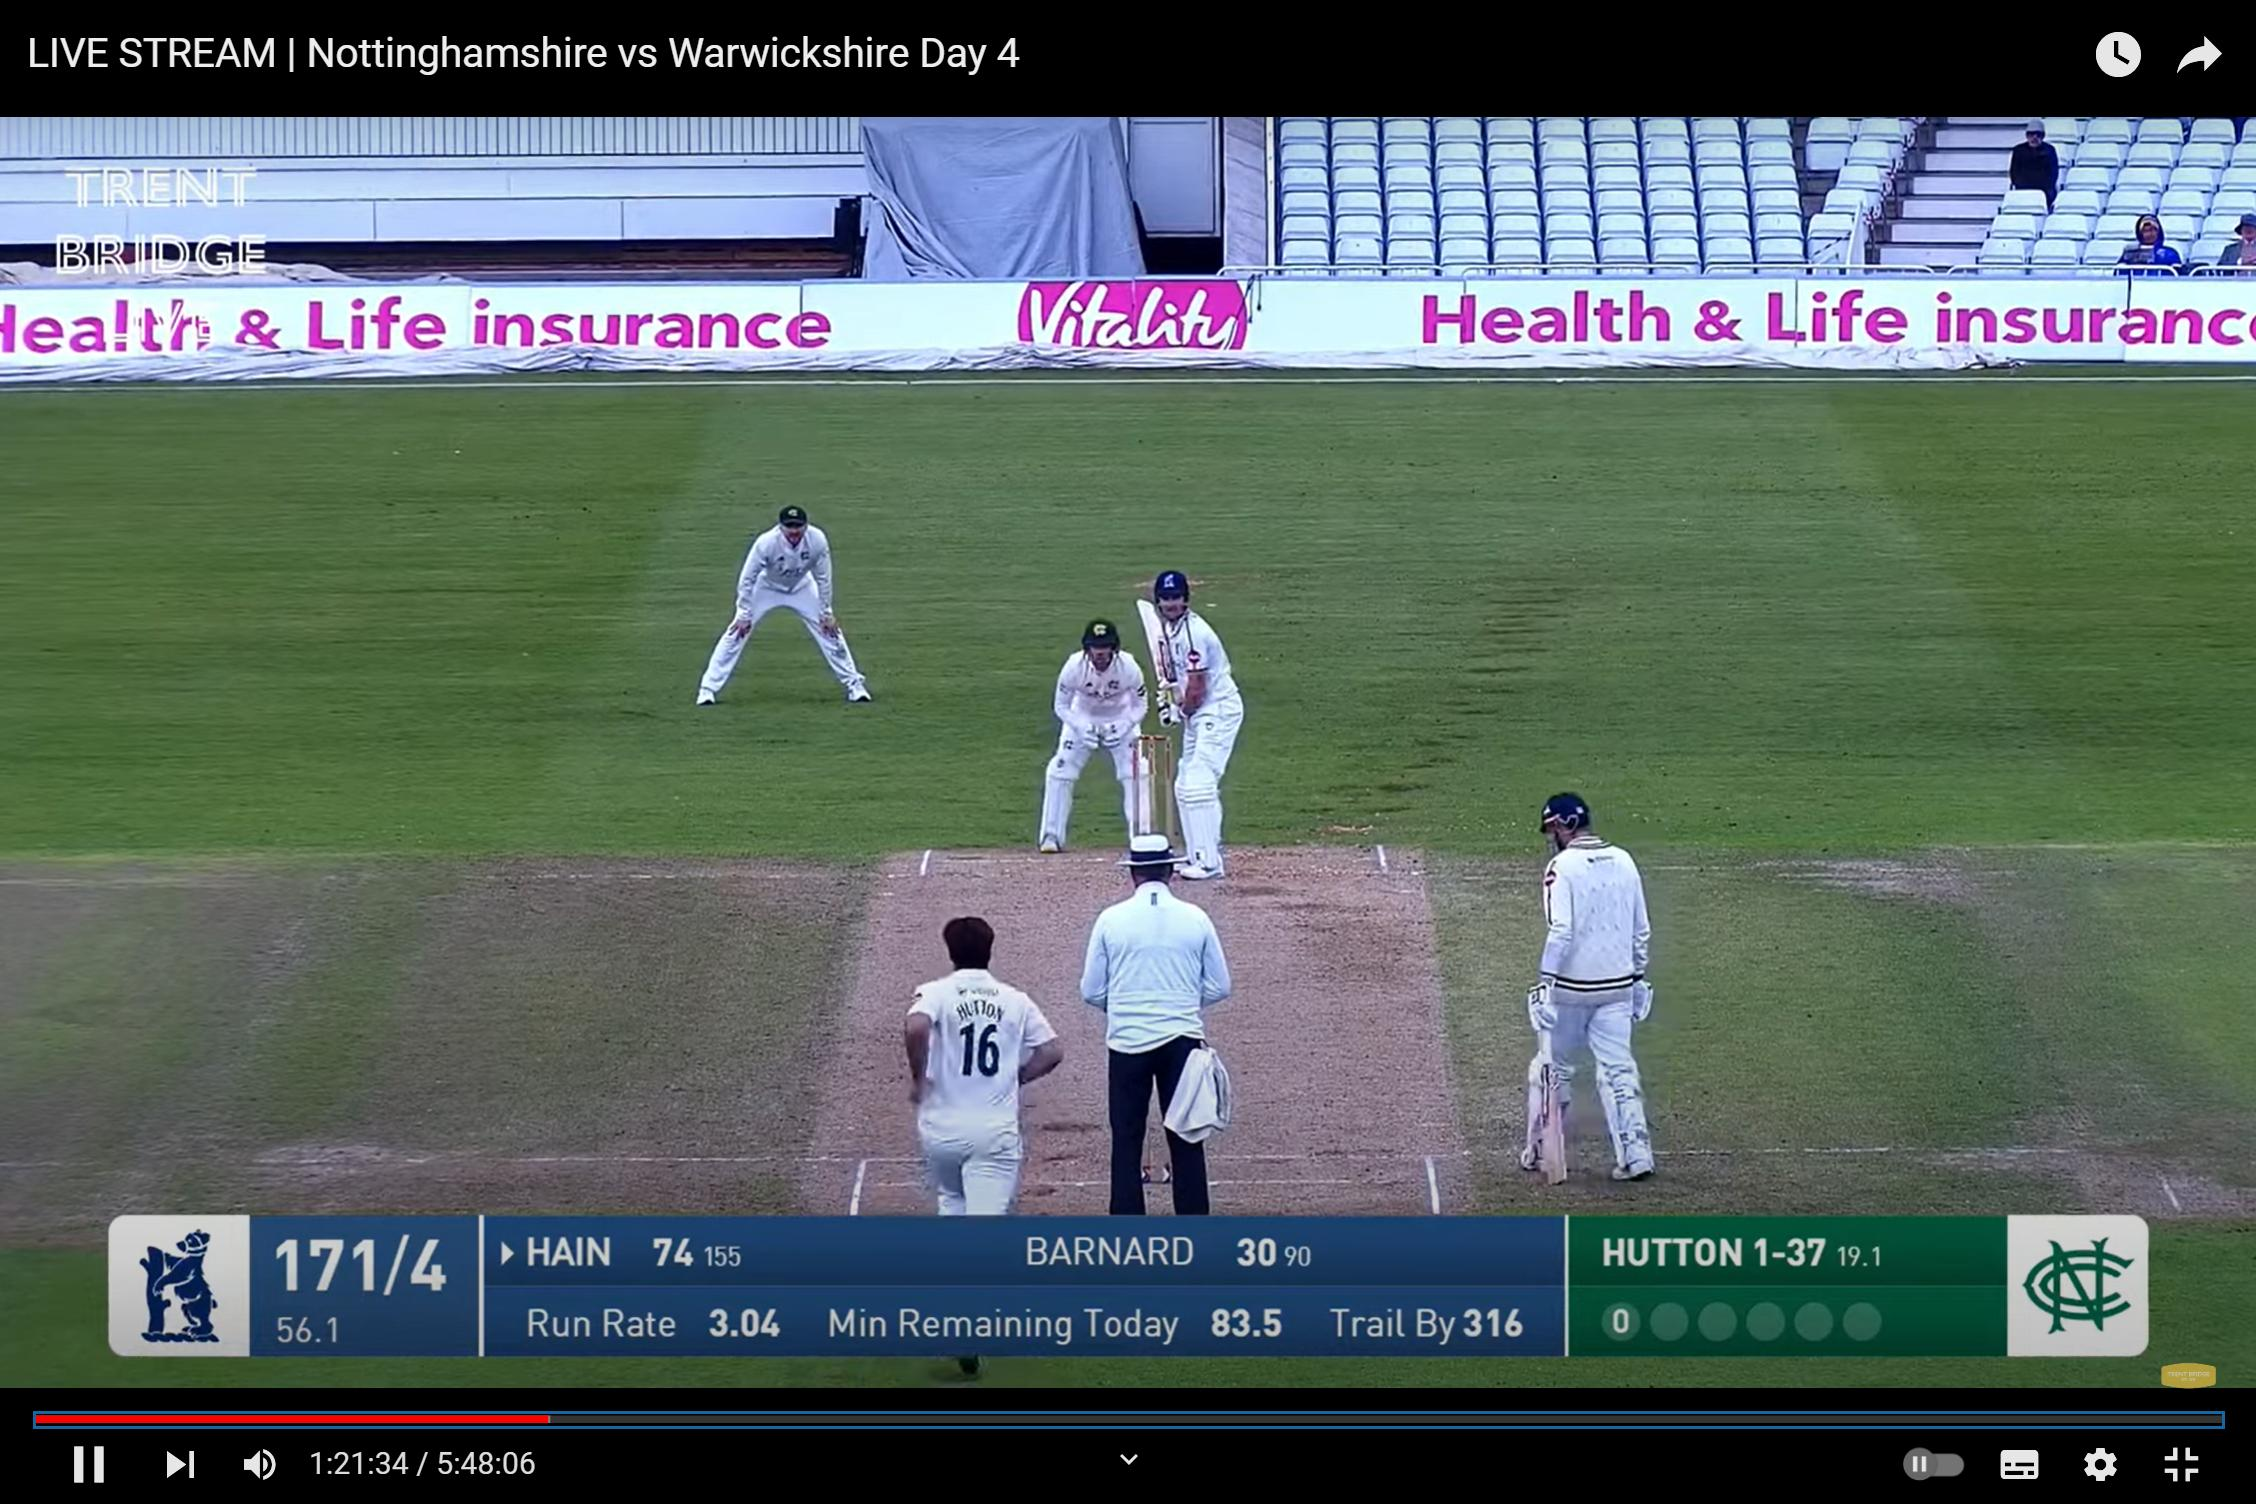batsman: (1121, 557, 1287, 881)
bowler running in: (893, 891, 1078, 1209)
non striker: (1487, 754, 1674, 1188)
